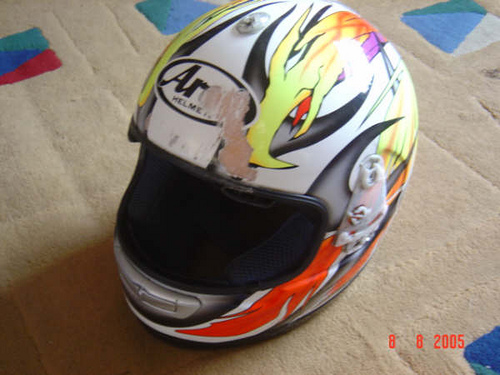helmet: (116, 8, 411, 331)
